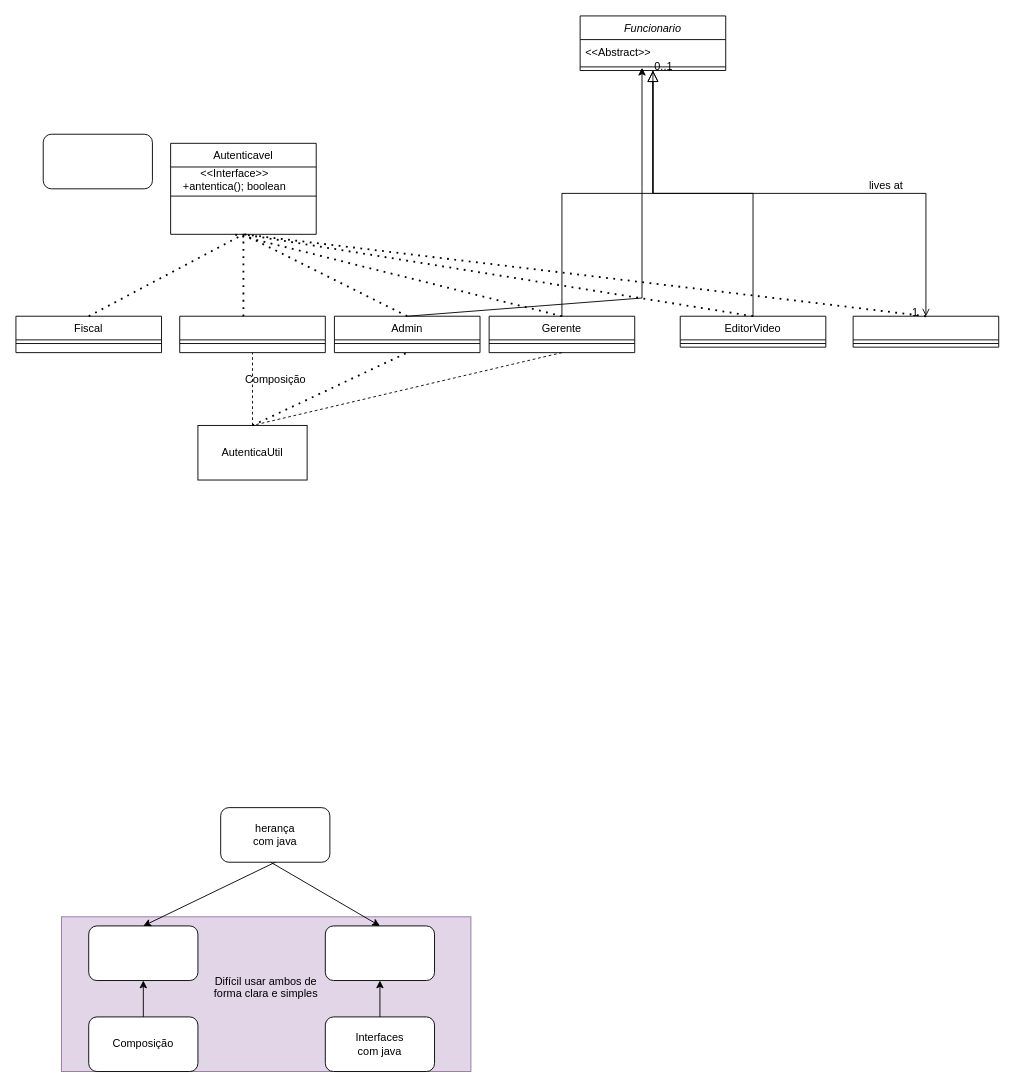
This 1015x1087 diagram has some shape labels left out. Here are the shapes that lost their labels. From the top down, the centre of each, then its label:
At (97,161): "Sistema Interno".
At (252,334): "Cliente".
At (925,331): "Designer".
At (143,953): "Reutilização de Codigo".
At (379,953): "Polimorfismo".
